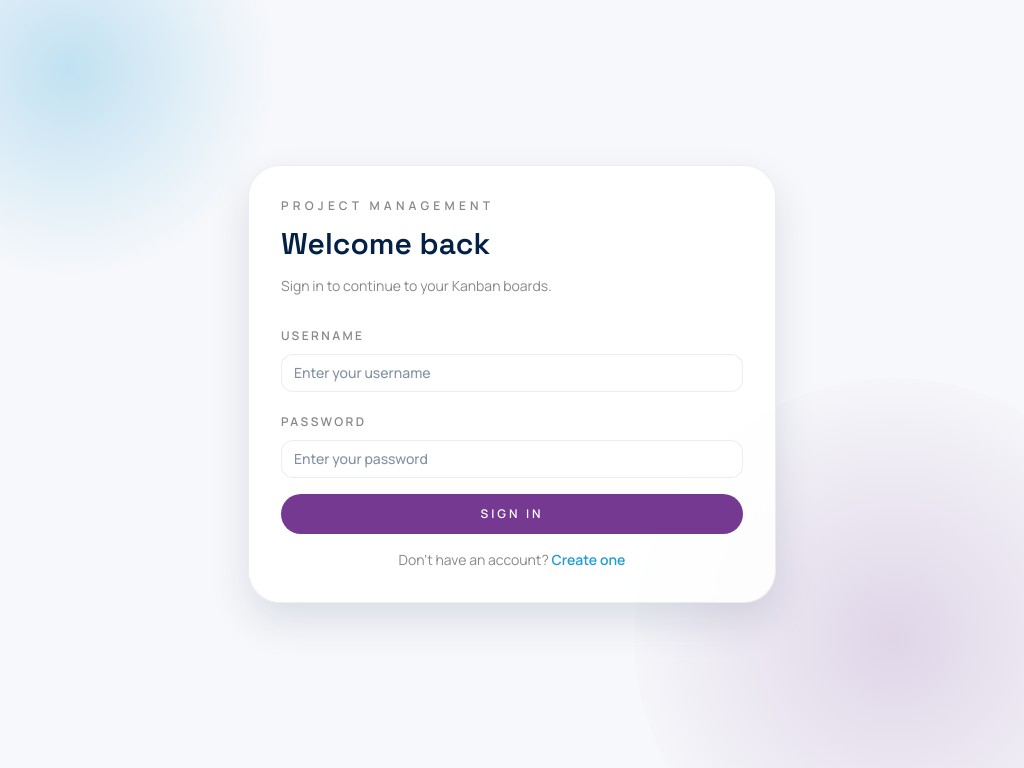
Scenario: Home page › applies chat updates to the board
This screenshot has width=1024, height=768.
Type "user" into the field with placeholder "Enter your username".
click(512, 373); type("user")  # box [281, 354, 743, 392]
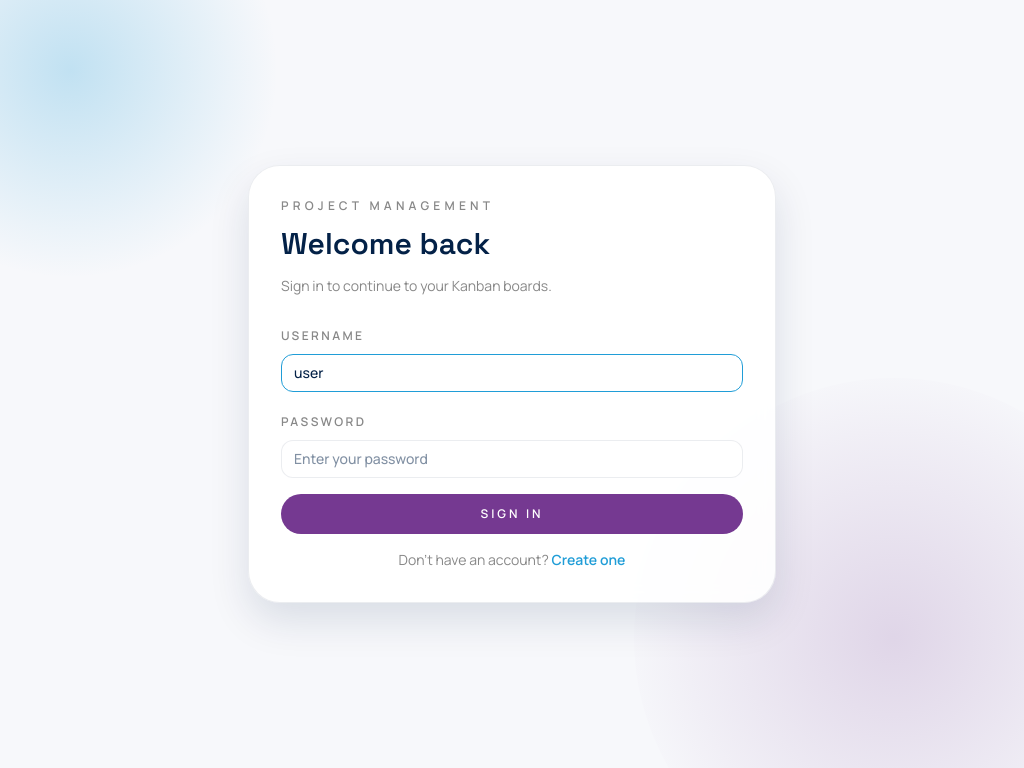
Type "password" into the password field with placeholder "Enter your password".
click(512, 459); type("password")  # box [281, 440, 743, 478]
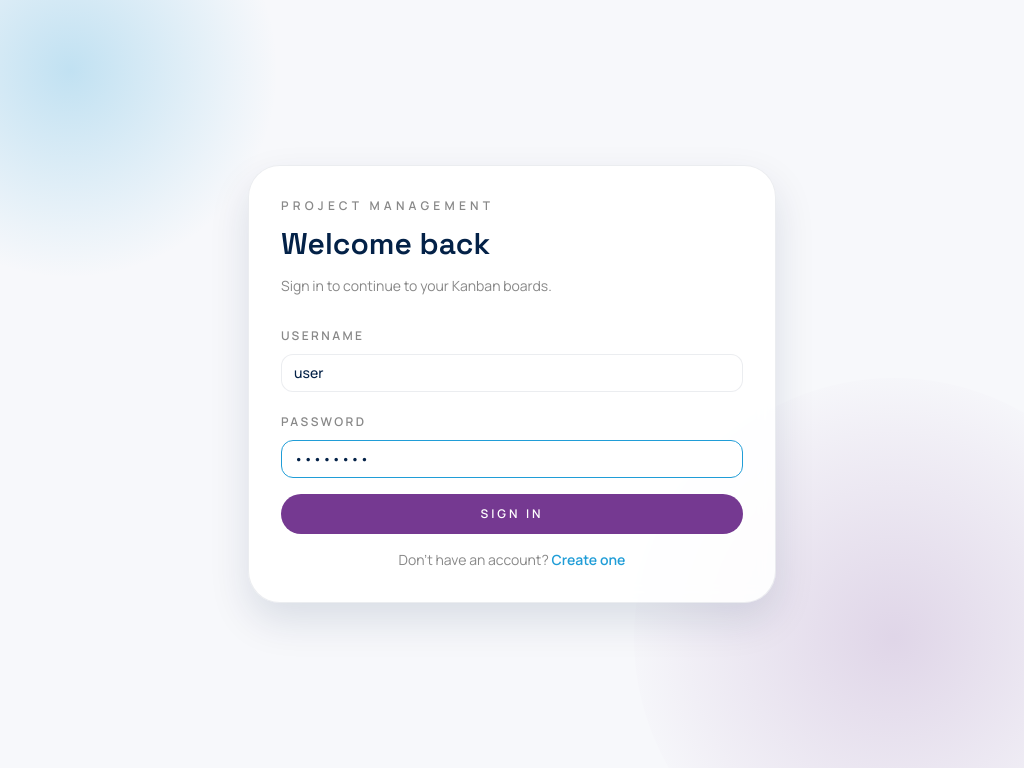
Click the button "Sign in".
click(512, 514)  # box [281, 494, 743, 534]
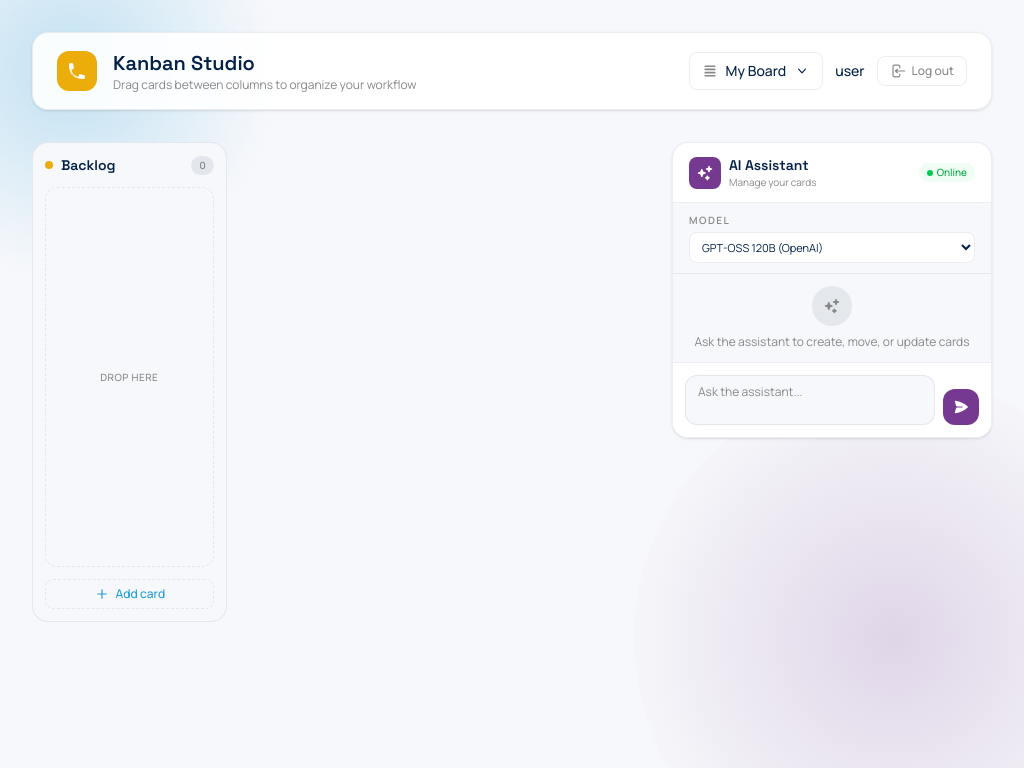
Expected: the heading "Kanban Studio" is shown, [113, 50, 255, 76]
Type "Add a card" into the text box named "Chat message".
click(810, 400); type("Add a card")  # box [685, 375, 935, 425]
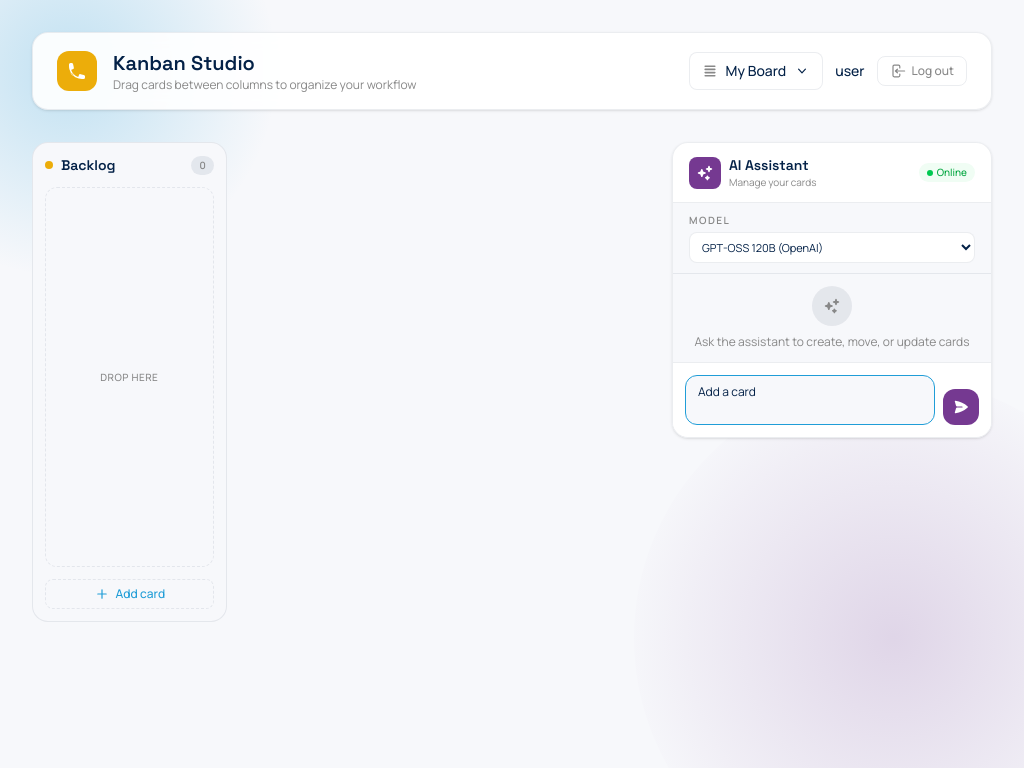
Click the button named "send".
click(961, 407)  # box [943, 389, 979, 425]
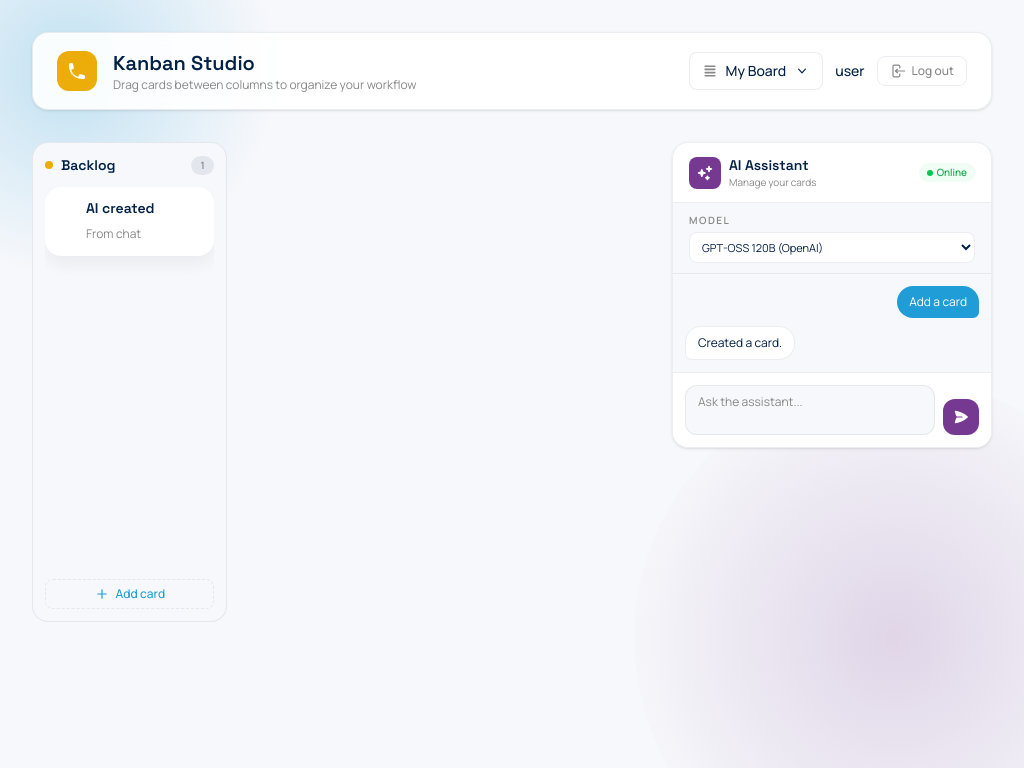
Expected: the heading "AI created" is shown, [86, 200, 154, 218]
